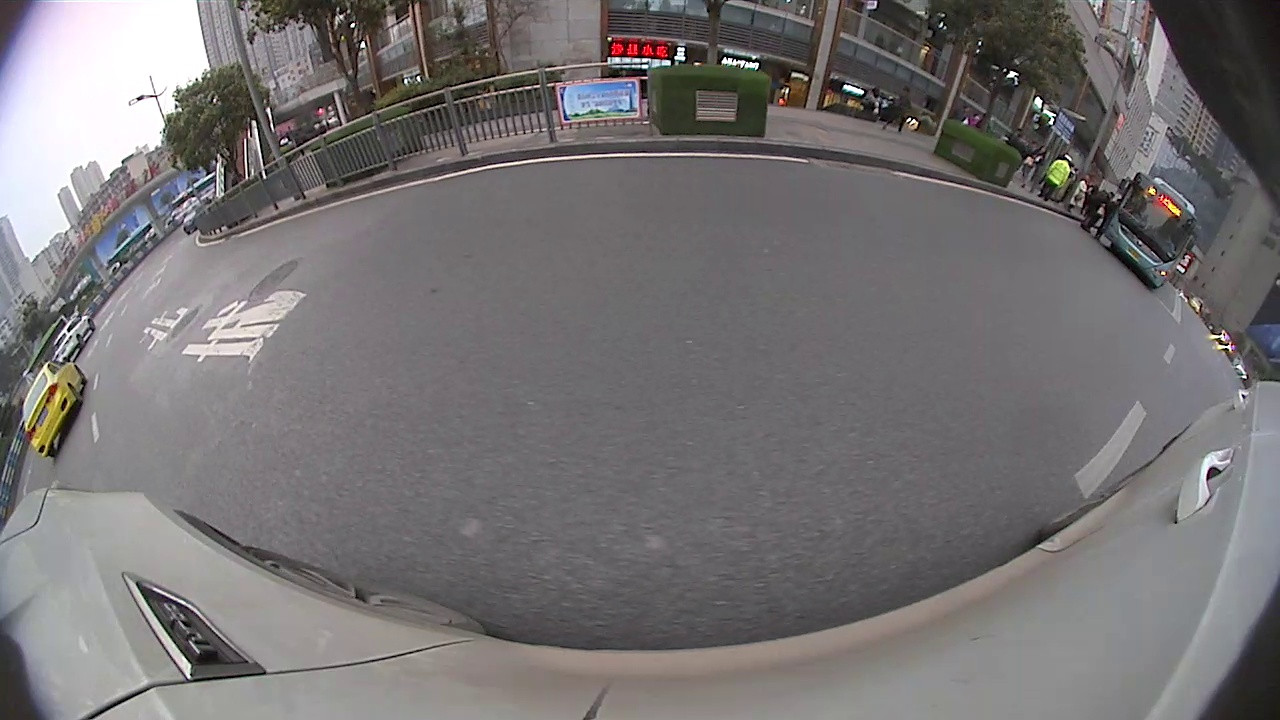car: (397, 25, 704, 156), (951, 178, 1148, 366), (65, 234, 130, 303), (943, 155, 1031, 203)
front: (614, 93, 674, 153), (1108, 338, 1143, 367), (89, 271, 102, 288)
rear: (427, 106, 480, 154), (1046, 309, 1100, 351), (76, 289, 89, 302)
